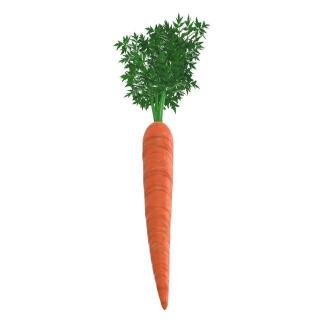carrot: (141, 120, 175, 310)
